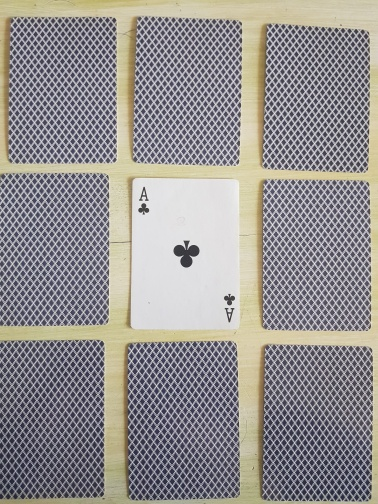ace: (128, 177, 242, 331)
